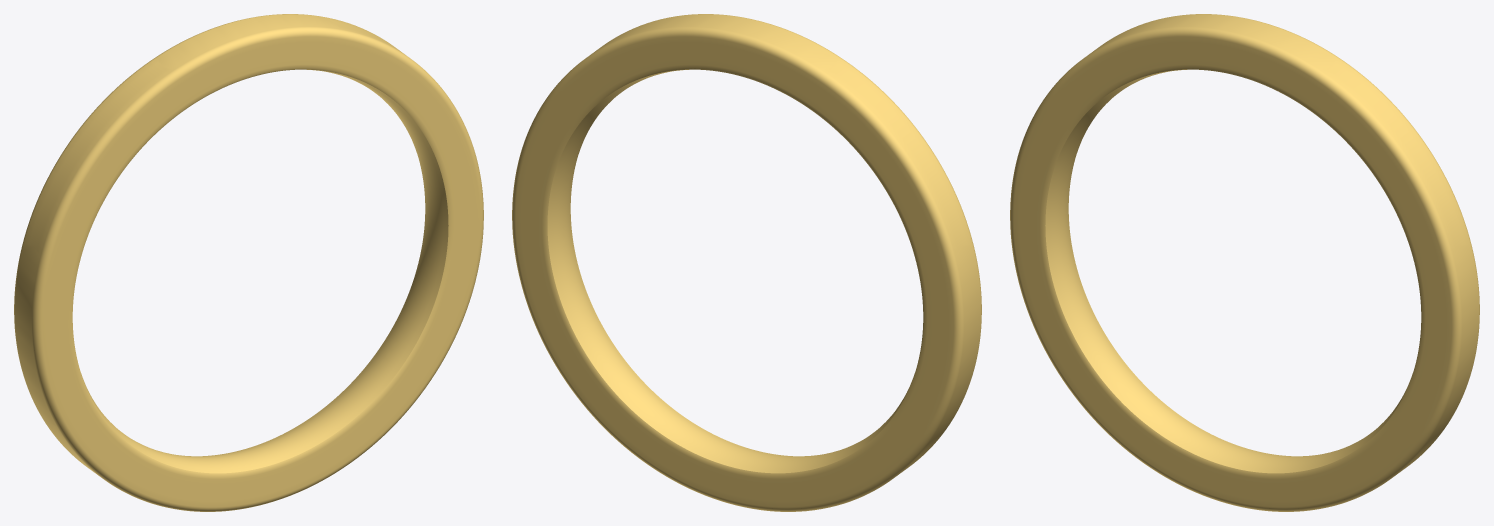
The model's file is DanV3straightYg_blender.glb.
3 renders of one model, left to right at view 1: azimuth 30°, elevation 25°; view 2: azimuth 150°, elevation 25°; view 3: azimuth 330°, elevation 25°, orthographic.
Parts seen in each view (by area): view 1: V3 Dan YG for 3d model; view 2: V3 Dan YG for 3d model; view 3: V3 Dan YG for 3d model.
Boxes of the visible parts, left/top/right/bottom form: V3 Dan YG for 3d model: left=14, top=14, right=483, bottom=511; V3 Dan YG for 3d model: left=512, top=14, right=981, bottom=511; V3 Dan YG for 3d model: left=1010, top=14, right=1479, bottom=511.
Bounding box in the file's own units: 20.3 × 20.3 × 1.9.
